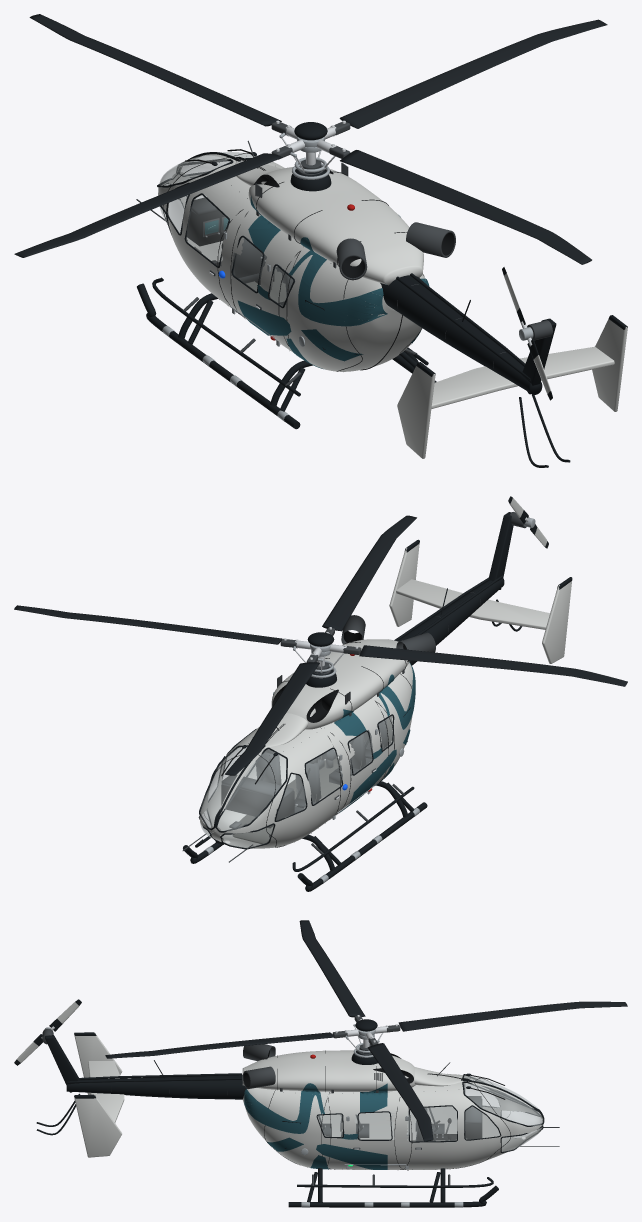
File: ajet-ec145-hero.glb
The picture shows the model from 3 angles, top to bottom: view 1: azimuth 30°, elevation 25°; view 2: azimuth 150°, elevation 25°; view 3: azimuth 270°, elevation 25°; orthographic projection. The views are drawn at different scales.
Visible parts, largest first — view 1: EC145_Static, MainRotor_Blades, MainRotor_Hub; view 2: EC145_Static, MainRotor_Blades, MainRotor_Hub; view 3: EC145_Static, MainRotor_Blades, MainRotor_Hub.
Part boxes in pixels (box(x1,y1,x2,y2)): EC145_Static: box(136, 137, 627, 467); MainRotor_Blades: box(14, 14, 607, 264); MainRotor_Hub: box(271, 120, 350, 159); EC145_Static: box(182, 496, 572, 891); MainRotor_Blades: box(14, 515, 627, 775); MainRotor_Hub: box(280, 627, 361, 662); EC145_Static: box(14, 999, 559, 1207); MainRotor_Blades: box(105, 920, 627, 1141); MainRotor_Hub: box(332, 1015, 400, 1045).
Bounding box in the file's own units: 10.75 × 4.02 × 12.63.
